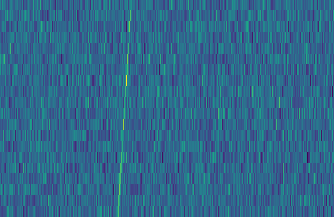signal: (111, 0, 134, 217)
